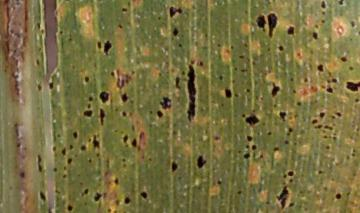tarspot: (186, 63, 198, 123), (275, 183, 289, 211), (266, 11, 279, 39), (114, 67, 125, 91), (167, 4, 185, 18), (344, 78, 360, 93), (255, 13, 267, 33), (101, 38, 113, 58), (244, 113, 260, 127), (159, 95, 172, 111), (195, 154, 207, 170), (98, 106, 106, 127), (36, 152, 44, 173), (270, 81, 280, 97), (223, 86, 233, 101), (98, 91, 109, 104), (38, 189, 48, 203), (277, 110, 288, 122), (169, 160, 179, 173), (92, 133, 100, 149), (285, 25, 297, 35), (139, 189, 149, 201), (120, 91, 129, 104), (123, 195, 132, 207), (174, 75, 181, 90), (94, 191, 102, 204), (124, 71, 132, 84), (315, 64, 325, 74), (82, 74, 92, 84), (318, 1, 327, 12), (311, 30, 320, 41), (171, 26, 179, 38), (81, 110, 93, 118), (95, 38, 102, 50), (60, 146, 67, 158), (348, 19, 357, 28), (325, 86, 334, 95), (333, 191, 342, 200), (318, 111, 327, 120), (286, 169, 296, 177), (115, 22, 125, 30), (46, 203, 54, 213), (36, 82, 43, 93), (340, 54, 348, 63), (156, 110, 164, 119), (276, 44, 285, 52), (322, 125, 334, 131), (122, 133, 129, 143), (82, 187, 89, 197), (139, 130, 146, 140), (130, 137, 136, 148), (113, 176, 119, 187), (115, 197, 121, 208), (242, 152, 250, 160), (120, 110, 128, 118), (197, 59, 205, 67), (217, 73, 225, 81), (46, 81, 54, 89), (287, 126, 295, 134), (244, 87, 252, 95), (108, 70, 116, 78), (244, 134, 251, 143), (212, 135, 221, 142), (80, 144, 87, 153), (34, 57, 40, 67), (320, 18, 328, 25), (310, 118, 318, 125), (71, 130, 78, 138), (65, 157, 73, 164), (272, 145, 280, 152), (68, 144, 75, 152), (215, 178, 222, 186), (256, 152, 264, 159), (324, 143, 331, 151), (354, 96, 360, 105), (335, 110, 341, 119), (312, 124, 321, 130), (67, 203, 73, 212), (239, 68, 248, 74), (94, 151, 101, 158), (86, 102, 93, 109), (238, 54, 245, 61), (15, 142, 22, 149), (320, 10, 328, 16), (19, 170, 25, 178), (322, 132, 328, 140), (146, 155, 152, 163), (52, 166, 58, 174), (86, 158, 94, 164), (121, 162, 129, 168), (303, 76, 309, 84), (313, 23, 319, 30), (336, 1, 343, 7), (347, 65, 353, 72), (330, 77, 337, 83), (250, 144, 257, 150), (244, 144, 250, 151), (316, 169, 323, 175), (120, 6, 127, 12), (237, 189, 243, 196), (344, 154, 350, 161), (88, 95, 94, 102), (120, 156, 127, 162), (176, 41, 182, 48), (291, 87, 297, 94), (288, 201, 294, 207), (267, 130, 273, 136), (350, 152, 356, 158), (351, 147, 357, 153), (288, 178, 294, 184), (281, 173, 287, 179), (296, 100, 301, 107), (189, 58, 194, 64), (105, 207, 110, 213), (61, 173, 67, 178), (283, 139, 287, 146), (332, 134, 336, 141), (289, 76, 293, 83), (148, 109, 153, 114)
